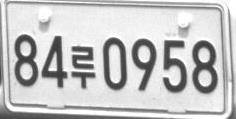0: (101, 36, 127, 90)
4: (40, 35, 67, 87)
5: (162, 39, 187, 93)
8: (191, 39, 218, 93), (13, 33, 39, 87)
9: (131, 37, 157, 91)
루: (70, 45, 96, 89)
